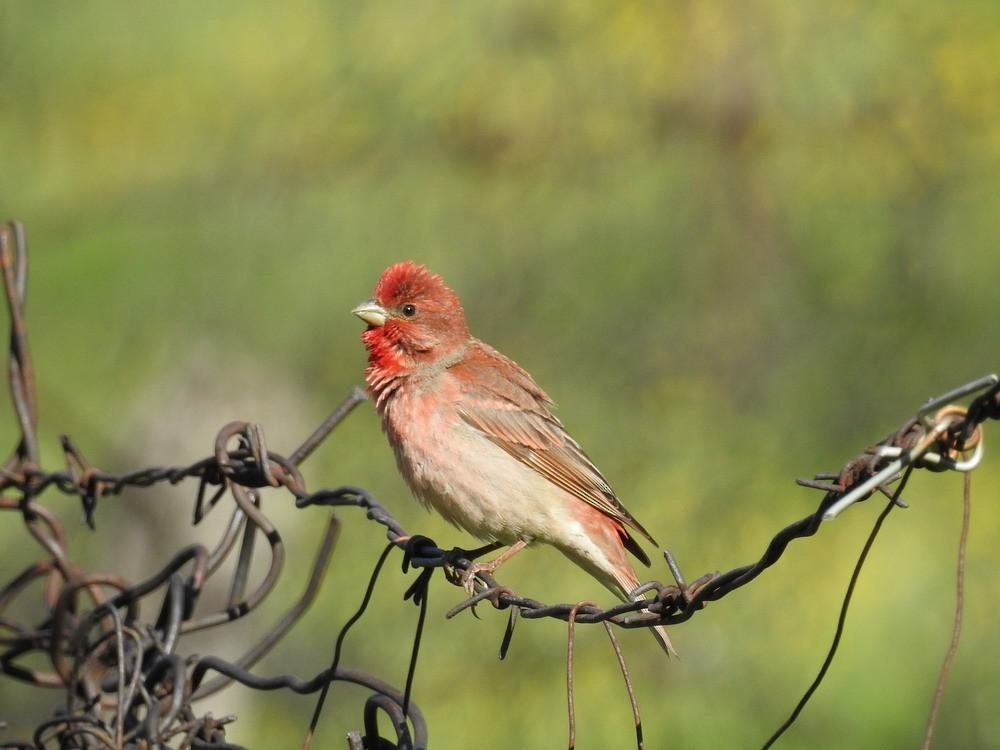rosefinch: (341, 244, 682, 601)
